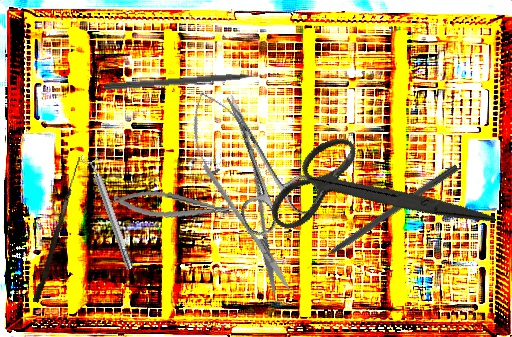Fixation Ring: (80, 149, 139, 273)
Hook Surgical: (32, 155, 81, 304)
Iris Scissors: (254, 92, 497, 301), (195, 78, 326, 240)
Micro Scissor: (175, 82, 309, 304)
Needle Holder: (111, 184, 239, 229)
Pusher: (303, 162, 460, 272), (103, 71, 277, 92)
